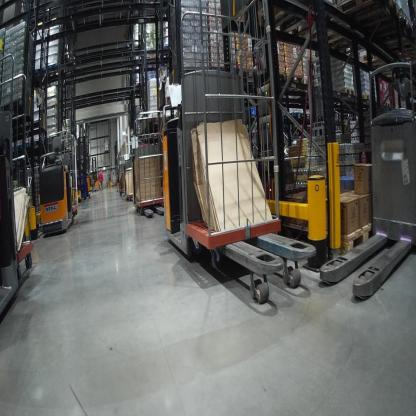forklift: (77, 130, 90, 199), (89, 145, 101, 197)
pallet: (240, 2, 319, 41), (291, 3, 344, 46), (338, 1, 397, 35), (2, 93, 36, 127), (44, 58, 71, 87), (33, 63, 53, 90), (237, 65, 259, 83), (207, 67, 237, 79), (285, 73, 306, 87), (158, 45, 174, 60), (273, 73, 288, 85)
pallet_truck: (157, 92, 304, 305), (316, 56, 413, 311), (1, 108, 38, 319), (38, 134, 77, 246), (132, 113, 170, 226), (124, 140, 136, 207), (117, 156, 127, 200)
